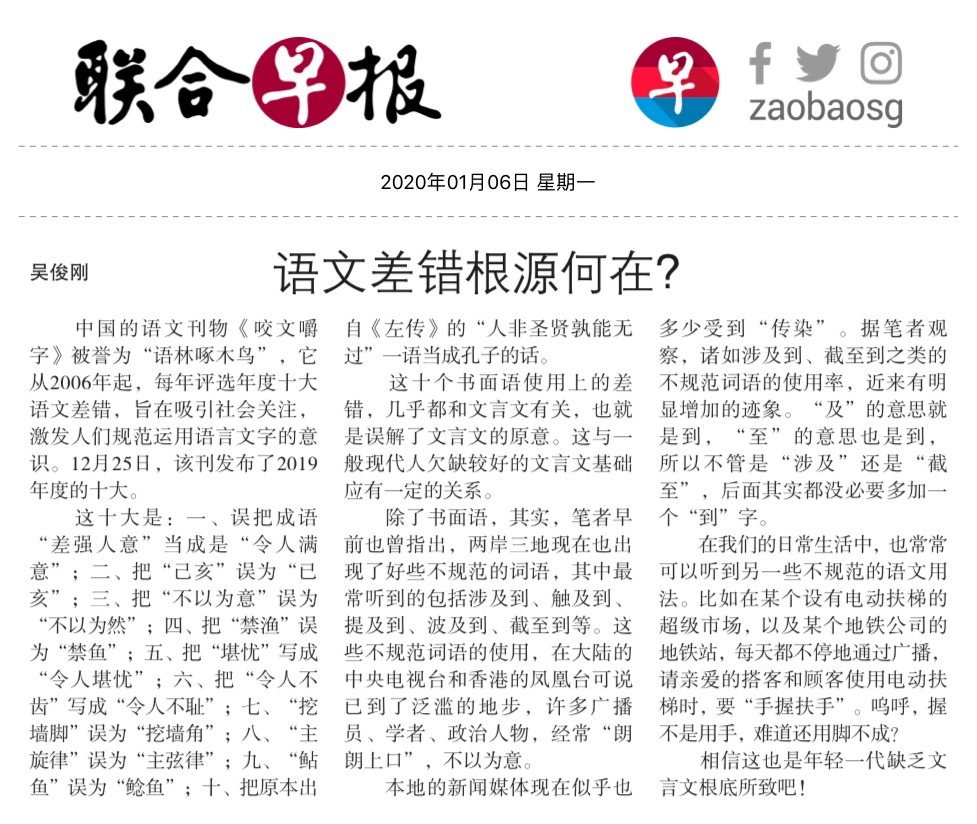heading: (271, 240, 682, 296)
